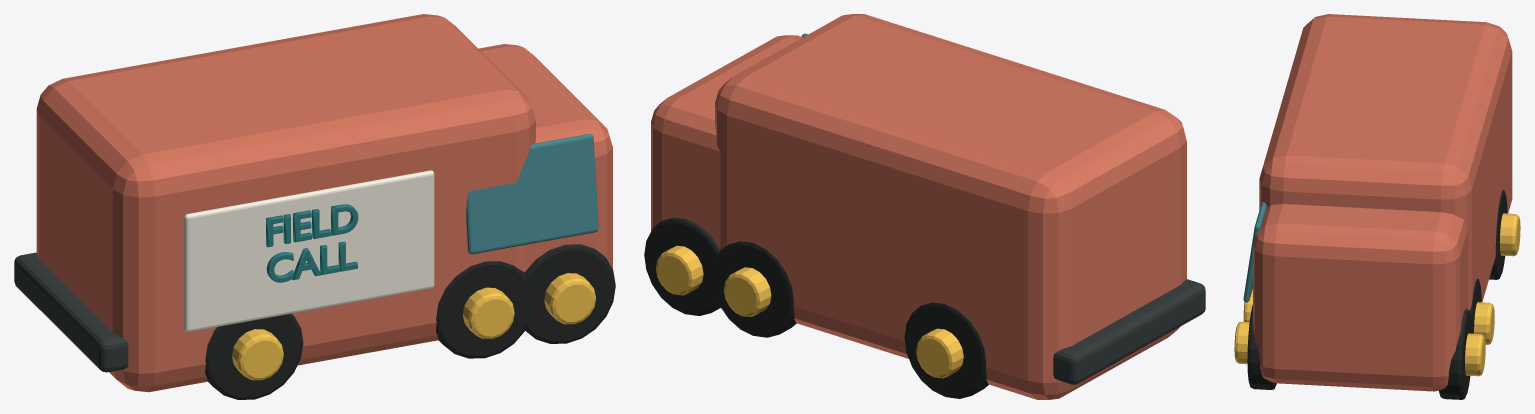
File: service-van-v2.glb
3 renders of one model, left to right at view 1: azimuth 30°, elevation 25°; view 2: azimuth 150°, elevation 25°; view 3: azimuth 270°, elevation 25°, orthographic. The views are drawn at different scales.
Visible parts, largest first — view 1: Van body, Van cream panel, Windshield, Van cab, Van wheel.004, Rear bumper, Van wheel.002, Van wheel, Lettering FIELDCALL, Wheel hub.004, Wheel hub, Wheel hub.002; view 2: Van body, Van cab, Rear bumper, Van wheel.001, Van wheel.003, Van wheel.005, Wheel hub.003, Wheel hub.005, Wheel hub.001; view 3: Van body, Van cab, Van wheel.005, Van wheel.004, Wheel hub.001, Wheel hub.005, Wheel hub.003, Van wheel.001, Wheel hub.004, Windshield, Van wheel.003.
Part boxes in pixels (x1=…): Van body: x1=36, y1=14, x2=535, y2=392; Van cream panel: x1=184, y1=170, x2=434, y2=331; Windshield: x1=466, y1=134, x2=598, y2=254; Van cab: x1=478, y1=44, x2=612, y2=271; Van wheel.004: x1=522, y1=244, x2=615, y2=343; Rear bumper: x1=14, y1=252, x2=128, y2=372; Van wheel.002: x1=436, y1=261, x2=530, y2=358; Van wheel: x1=205, y1=313, x2=303, y2=399; Lettering FIELDCALL: x1=266, y1=204, x2=358, y2=282; Wheel hub.004: x1=544, y1=273, x2=595, y2=324; Wheel hub: x1=232, y1=329, x2=283, y2=380; Wheel hub.002: x1=462, y1=287, x2=514, y2=338; Van body: x1=715, y1=14, x2=1186, y2=399; Van cab: x1=651, y1=35, x2=802, y2=248; Rear bumper: x1=1053, y1=279, x2=1205, y2=384; Van wheel.001: x1=904, y1=302, x2=988, y2=398; Van wheel.003: x1=714, y1=241, x2=796, y2=337; Van wheel.005: x1=644, y1=217, x2=720, y2=315; Wheel hub.003: x1=723, y1=267, x2=771, y2=316; Wheel hub.005: x1=656, y1=245, x2=703, y2=295; Wheel hub.001: x1=916, y1=328, x2=963, y2=378; Van body: x1=1259, y1=14, x2=1512, y2=310; Van cab: x1=1253, y1=204, x2=1468, y2=391; Van wheel.005: x1=1439, y1=308, x2=1471, y2=399; Van wheel.004: x1=1247, y1=305, x2=1276, y2=389; Wheel hub.001: x1=1499, y1=213, x2=1520, y2=256; Wheel hub.005: x1=1465, y1=333, x2=1485, y2=376; Wheel hub.003: x1=1474, y1=302, x2=1494, y2=344; Van wheel.001: x1=1489, y1=190, x2=1507, y2=279; Wheel hub.004: x1=1234, y1=321, x2=1249, y2=364; Windshield: x1=1243, y1=202, x2=1266, y2=302; Van wheel.003: x1=1469, y1=278, x2=1481, y2=333.
Size of the model in its own units: 3.95 by 1.88 by 2.3.
Materials: 1 (1 with a texture image).
